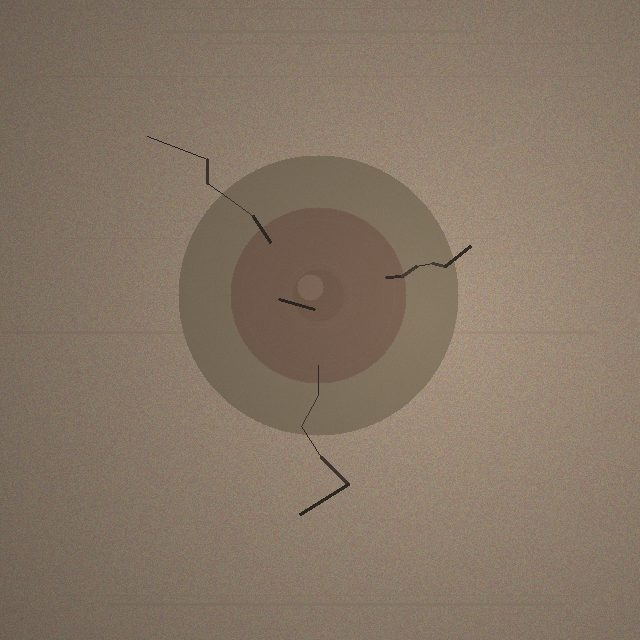crack: (178, 155, 458, 435)
